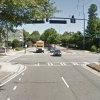Crosswalk: (20, 57, 87, 78)
